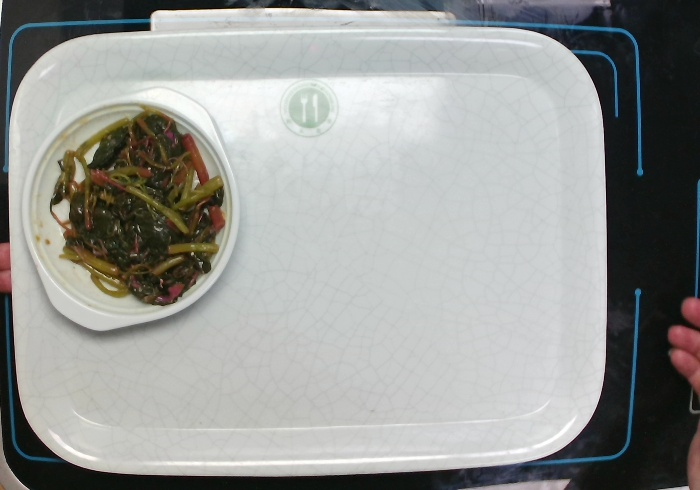JYsf-Shuang_Er_Pan: (18, 84, 242, 333)
